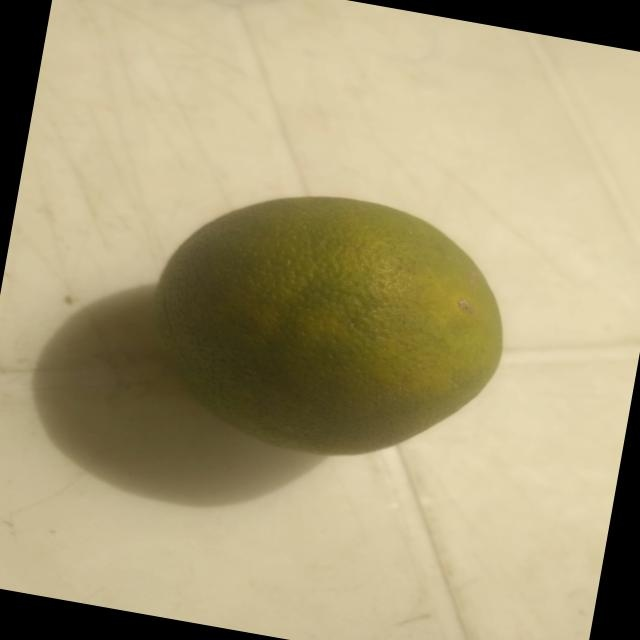agrume: (125, 162, 527, 489)
